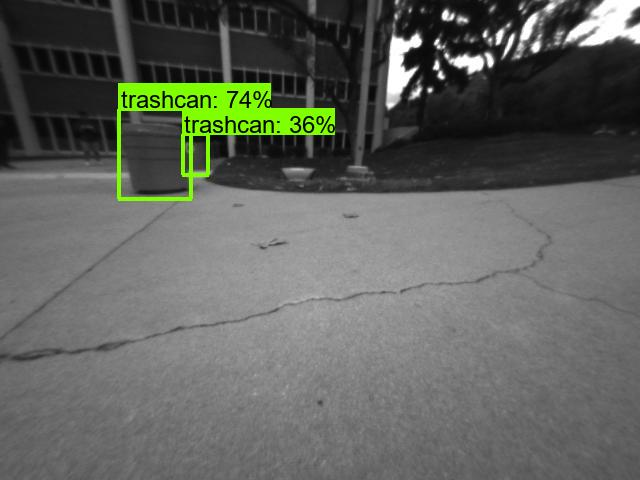trashcan: (116, 123, 189, 203)
